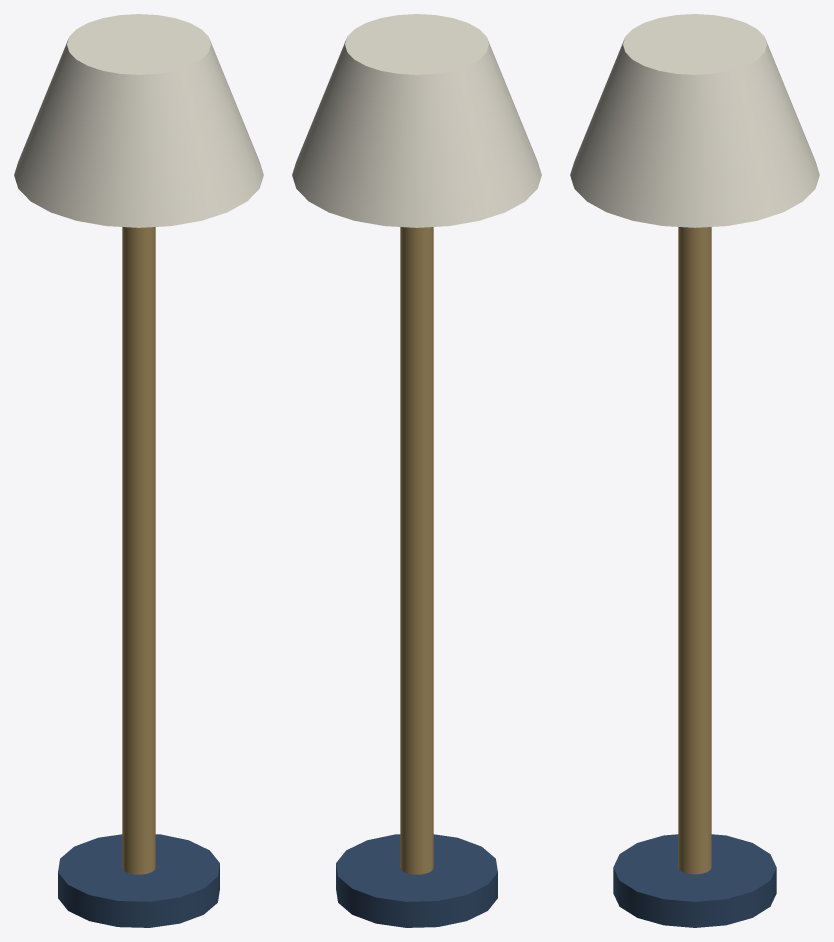
The model's file is v18_interior_floor_lamp.glb.
3 renders of one model, left to right at view 1: azimuth 30°, elevation 25°; view 2: azimuth 150°, elevation 25°; view 3: azimuth 270°, elevation 25°, orthographic.
Parts seen in each view (by area): view 1: _MeshInstance3D_4809, _MeshInstance3D_4808, _MeshInstance3D_4807; view 2: _MeshInstance3D_4809, _MeshInstance3D_4808, _MeshInstance3D_4807; view 3: _MeshInstance3D_4809, _MeshInstance3D_4808, _MeshInstance3D_4807.
Boxes of the visible parts, <box> form: _MeshInstance3D_4809: <box>14,14,263,227</box>; _MeshInstance3D_4808: <box>122,227,155,874</box>; _MeshInstance3D_4807: <box>58,834,219,927</box>; _MeshInstance3D_4809: <box>292,14,541,227</box>; _MeshInstance3D_4808: <box>400,227,433,874</box>; _MeshInstance3D_4807: <box>336,834,497,927</box>; _MeshInstance3D_4809: <box>570,14,819,227</box>; _MeshInstance3D_4808: <box>678,227,711,874</box>; _MeshInstance3D_4807: <box>613,834,776,927</box>.
Size of the model in its own units: 0.48 by 1.8 by 0.48.
